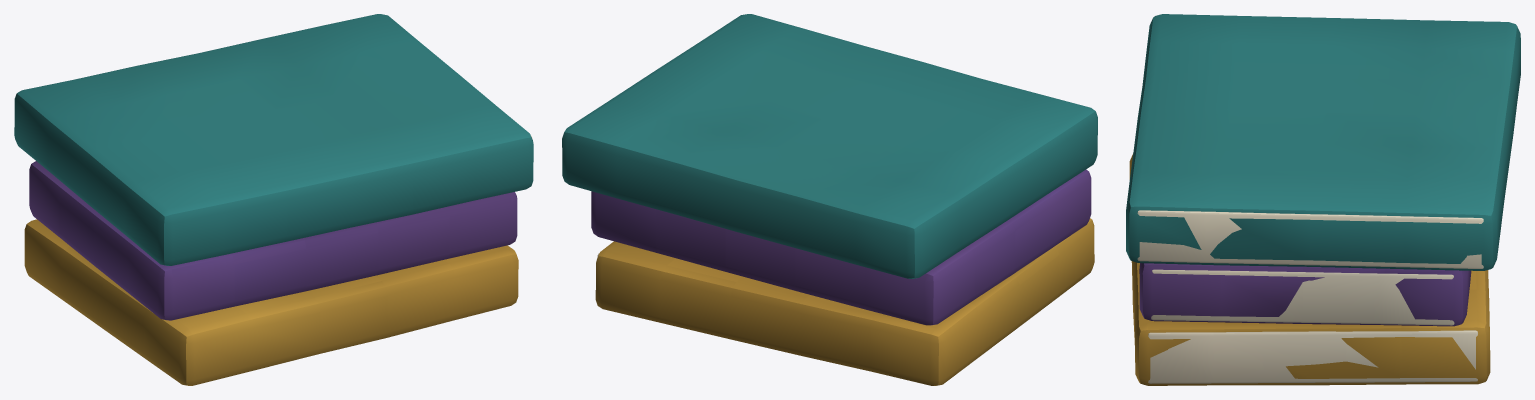
The model's file is den_book_stack.glb.
3 views of the same model, side by side, from view 1: azimuth 30°, elevation 25°; view 2: azimuth 150°, elevation 25°; view 3: azimuth 270°, elevation 25° (orthographic). The views are drawn at different scales.
Parts seen in each view (by area): view 1: den_book_stack; view 2: den_book_stack; view 3: den_book_stack.
Boxes of the visible parts, <box> form: den_book_stack: <box>14,14,533,385</box>; den_book_stack: <box>562,14,1097,385</box>; den_book_stack: <box>1126,14,1520,385</box>.
Bounding box in the file's own units: 10.2 × 4.5 × 8.34.
